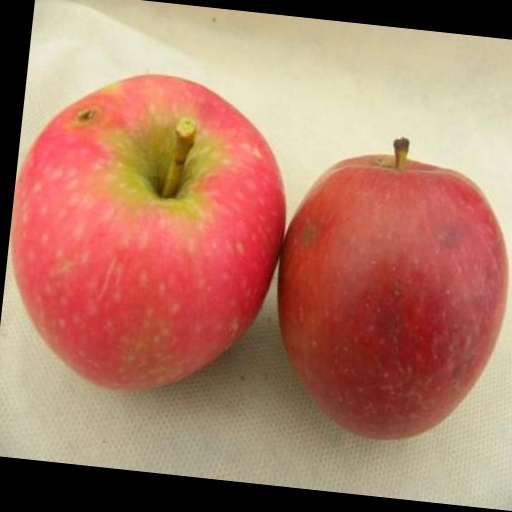fruit: (11, 75, 285, 389), (279, 140, 508, 439)
